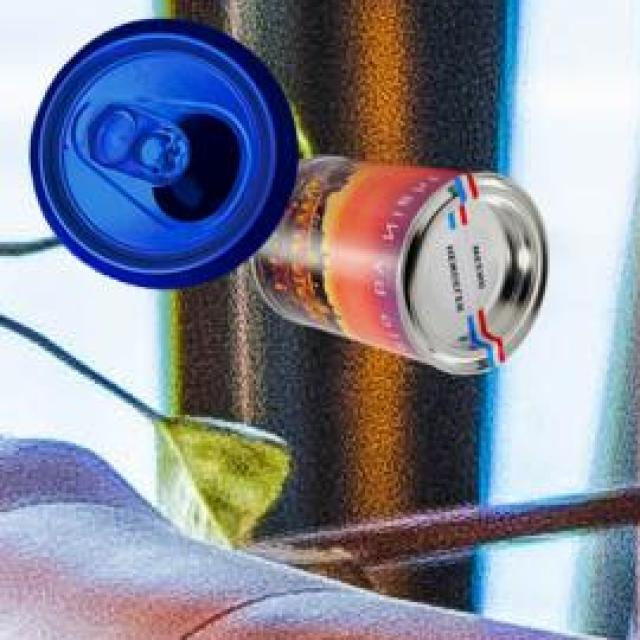logam: (34, 15, 302, 286), (255, 153, 551, 371)
